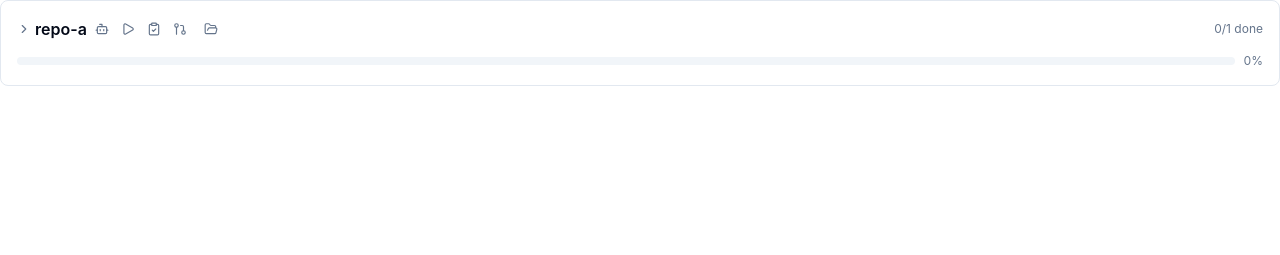
Test: RepoTodoCard collapsing › collapses again on a second click
Click the button "repo-a".
click(52, 29)  # box [13,17,91,41]
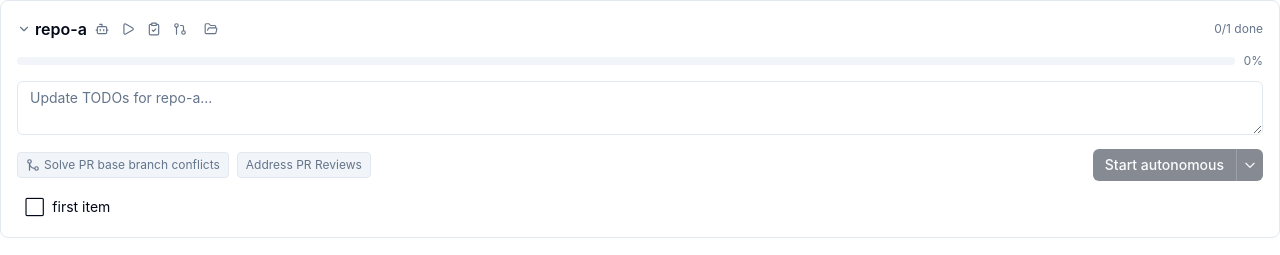
Click the button "repo-a".
click(52, 29)  # box [13,17,91,41]
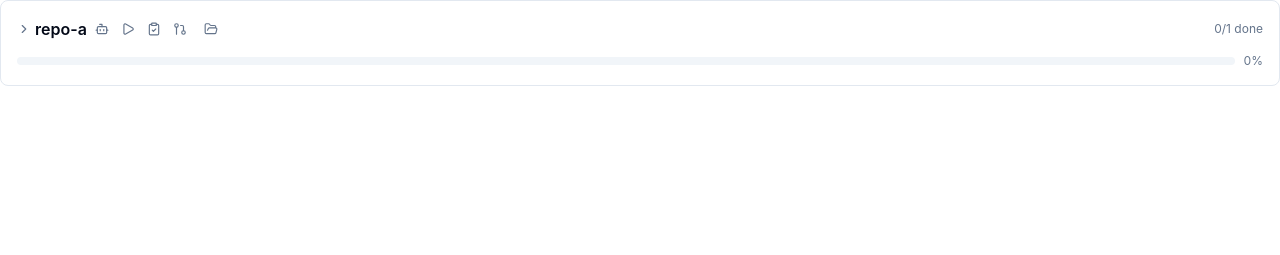
Now the button "repo-a" is collapsed, box [13,17,91,41]
Now the text "first item" is gone
